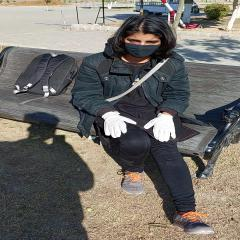gloved: (102, 111, 135, 138), (146, 114, 176, 142)
